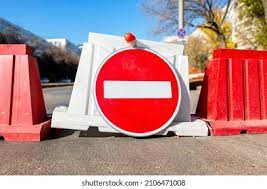No entry: (93, 47, 183, 138)
